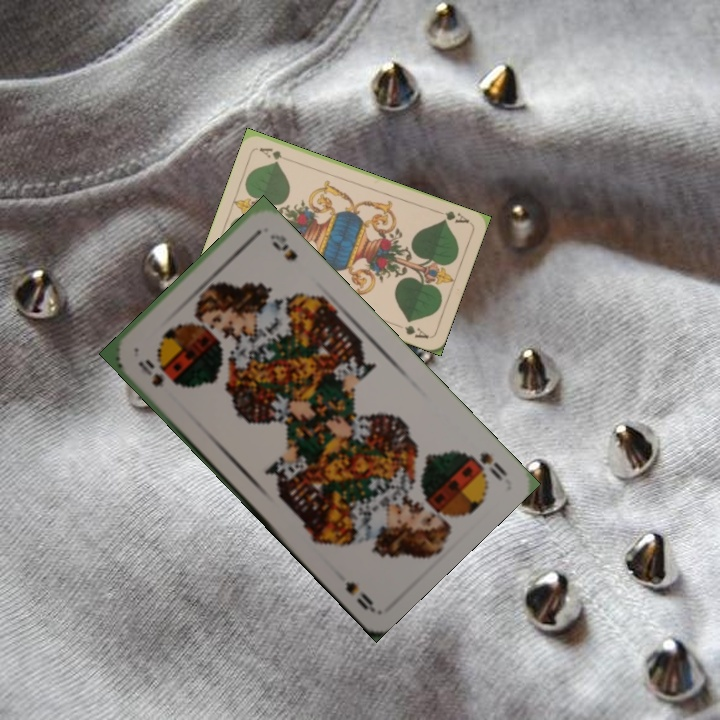GA: (432, 206, 472, 226)
SO: (475, 448, 510, 484), (134, 354, 166, 390)
